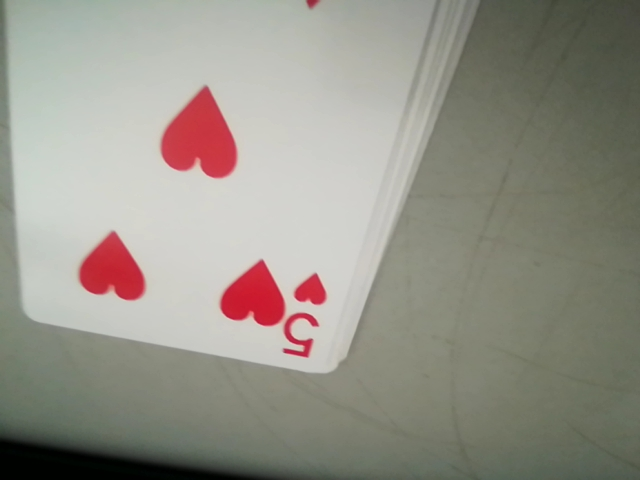hx 5: (284, 271, 327, 358)
